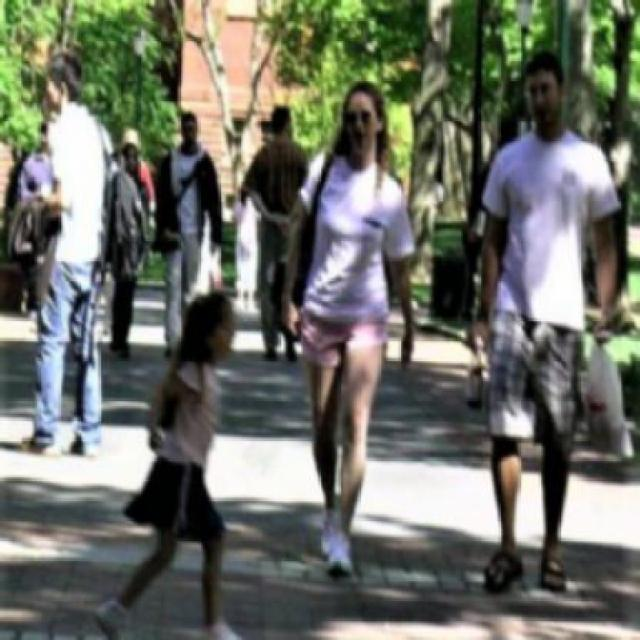obstacle: (470, 49, 628, 600), (286, 71, 417, 584), (23, 46, 120, 463), (145, 296, 246, 638), (158, 107, 220, 344), (250, 101, 308, 354)
